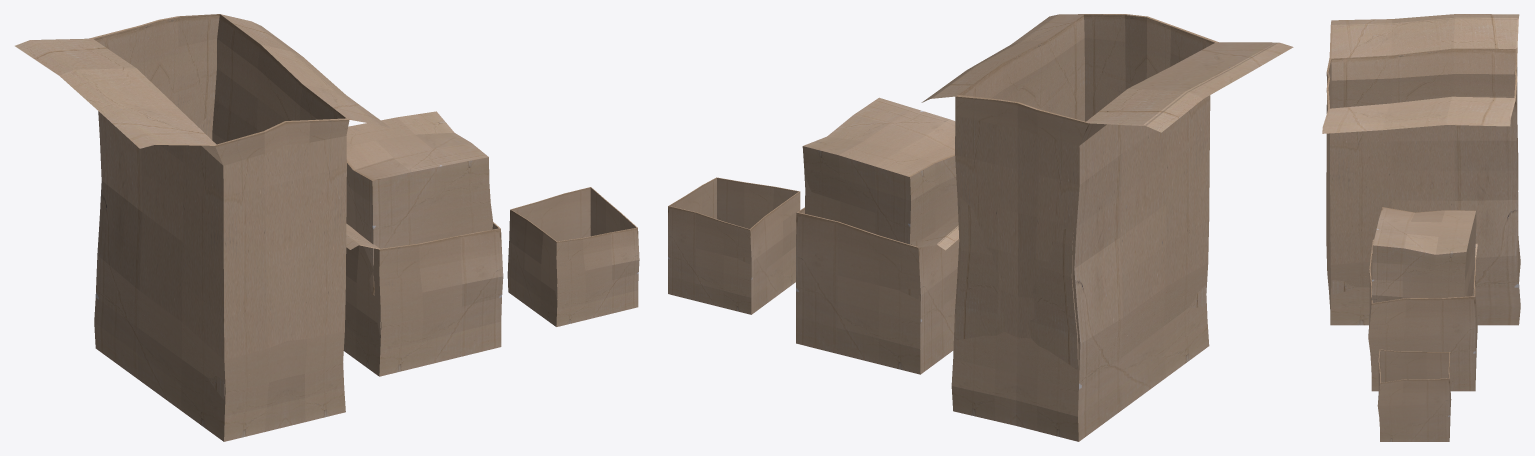
Rendered from boxesfbx.fbx.
The picture shows the model from 3 angles, left to right: view 1: azimuth 30°, elevation 25°; view 2: azimuth 150°, elevation 25°; view 3: azimuth 270°, elevation 25°; orthographic projection. The views are drawn at different scales.
Visible parts, largest first — view 1: boxtall, boxmed, boxsmall; view 2: boxtall, boxmed, boxsmall; view 3: boxtall, boxmed, boxsmall.
Boxes of the visible parts, x1,y1,x2,y2 form: boxtall: (15,14,390,441); boxmed: (343,111,503,376); boxsmall: (507,187,639,326); boxtall: (921,14,1293,441); boxmed: (796,97,959,374); boxsmall: (668,177,800,314); boxtall: (1322,14,1520,325); boxmed: (1368,207,1477,391); boxsmall: (1377,349,1451,441).
Bounding box in the file's own units: 263 × 154 × 116.
Materials: 1 (1 with a texture image).
